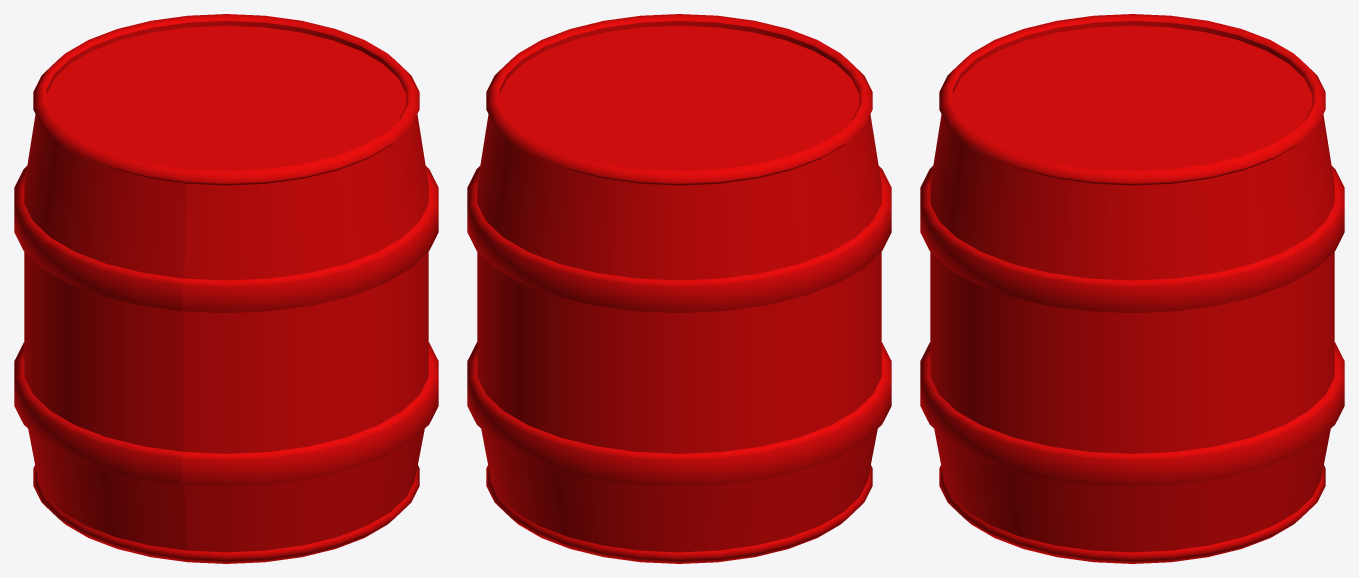
Rendered from Tonneau_01.fbx.
The picture shows the model from 3 angles, left to right: view 1: azimuth 30°, elevation 25°; view 2: azimuth 150°, elevation 25°; view 3: azimuth 270°, elevation 25°; orthographic projection.
Parts seen in each view (by area): view 1: Tonneau_01; view 2: Tonneau_01; view 3: Tonneau_01.
Part boxes in pixels (x1=…): Tonneau_01: x1=14, y1=14, x2=438, y2=563; Tonneau_01: x1=467, y1=14, x2=891, y2=563; Tonneau_01: x1=920, y1=14, x2=1344, y2=563.
Size of the model in its own units: 0.9956 by 1.01 by 0.9901.
